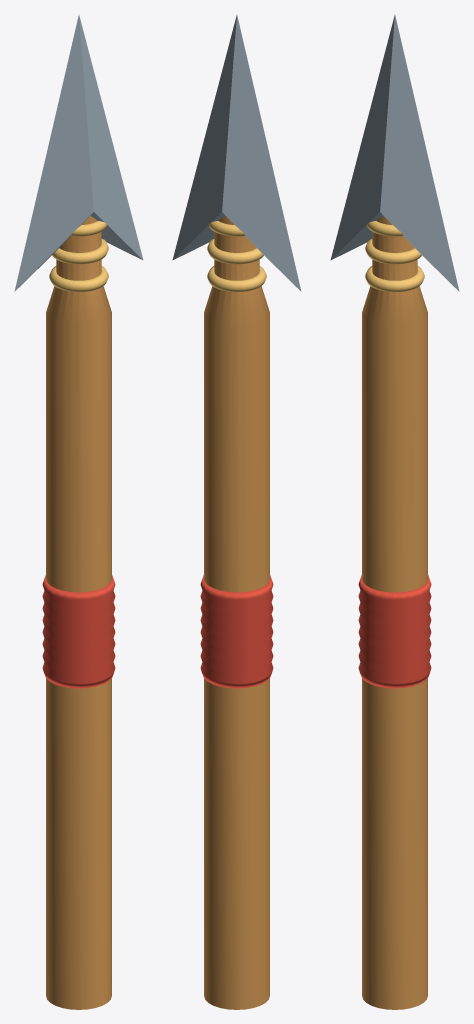
File: SPEAR.glb
3 views of the same model, side by side, from view 1: azimuth 30°, elevation 25°; view 2: azimuth 150°, elevation 25°; view 3: azimuth 330°, elevation 25° (orthographic).
Parts seen in each view (by area): view 1: SPEAR; view 2: SPEAR; view 3: SPEAR.
Part boxes in pixels (x1,y1,x2,y2): SPEAR: (14, 15, 143, 1009); SPEAR: (172, 15, 301, 1009); SPEAR: (330, 15, 459, 1009).
Size of the model in its own units: 0.17 by 1.23 by 0.0832.
4 materials, 2 textured.
